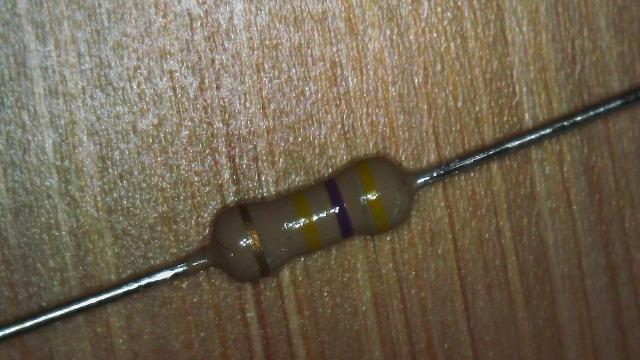gold: (238, 204, 268, 274)
resistor: (175, 130, 437, 292)
violet: (324, 177, 354, 238)
yellow: (355, 160, 390, 231), (292, 190, 322, 251)
